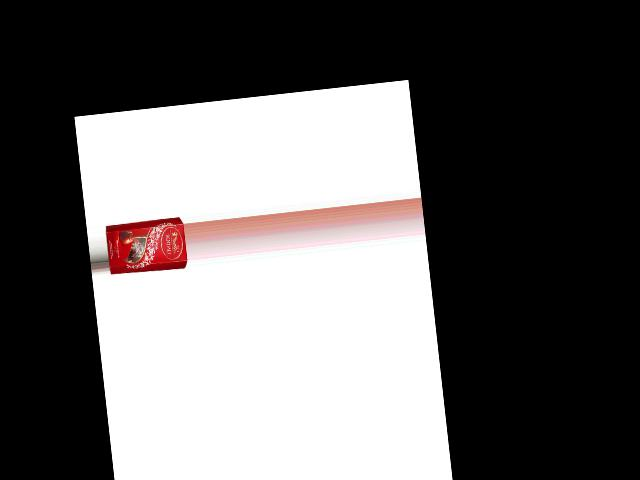chocolate: (103, 213, 188, 277)
